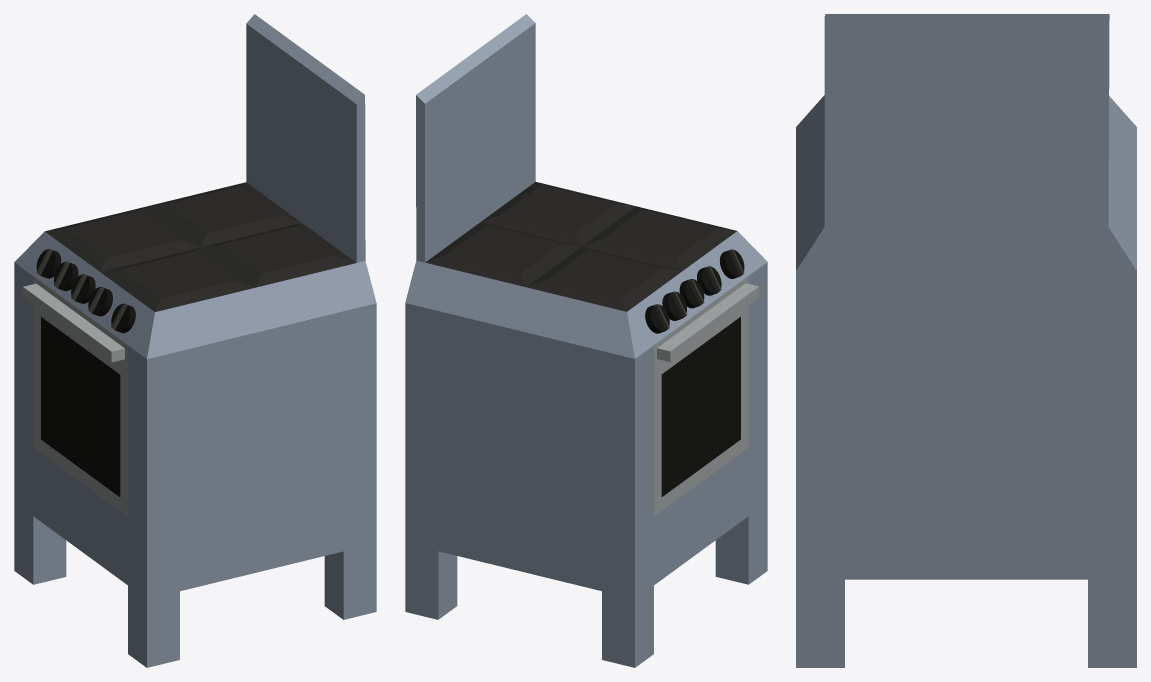
File: Fogao.fbx
The picture shows the model from 3 angles, left to right: view 1: azimuth 30°, elevation 25°; view 2: azimuth 150°, elevation 25°; view 3: azimuth 270°, elevation 25°; orthographic projection. The views are drawn at different scales.
Visible parts, largest first — view 1: Cube; view 2: Cube; view 3: Cube.
Boxes of the visible parts, x1,y1,x2,y2 form: Cube: (14, 14, 376, 667); Cube: (405, 14, 767, 667); Cube: (796, 14, 1136, 667).
Bounding box in the file's own units: 742 × 1483 × 701.
